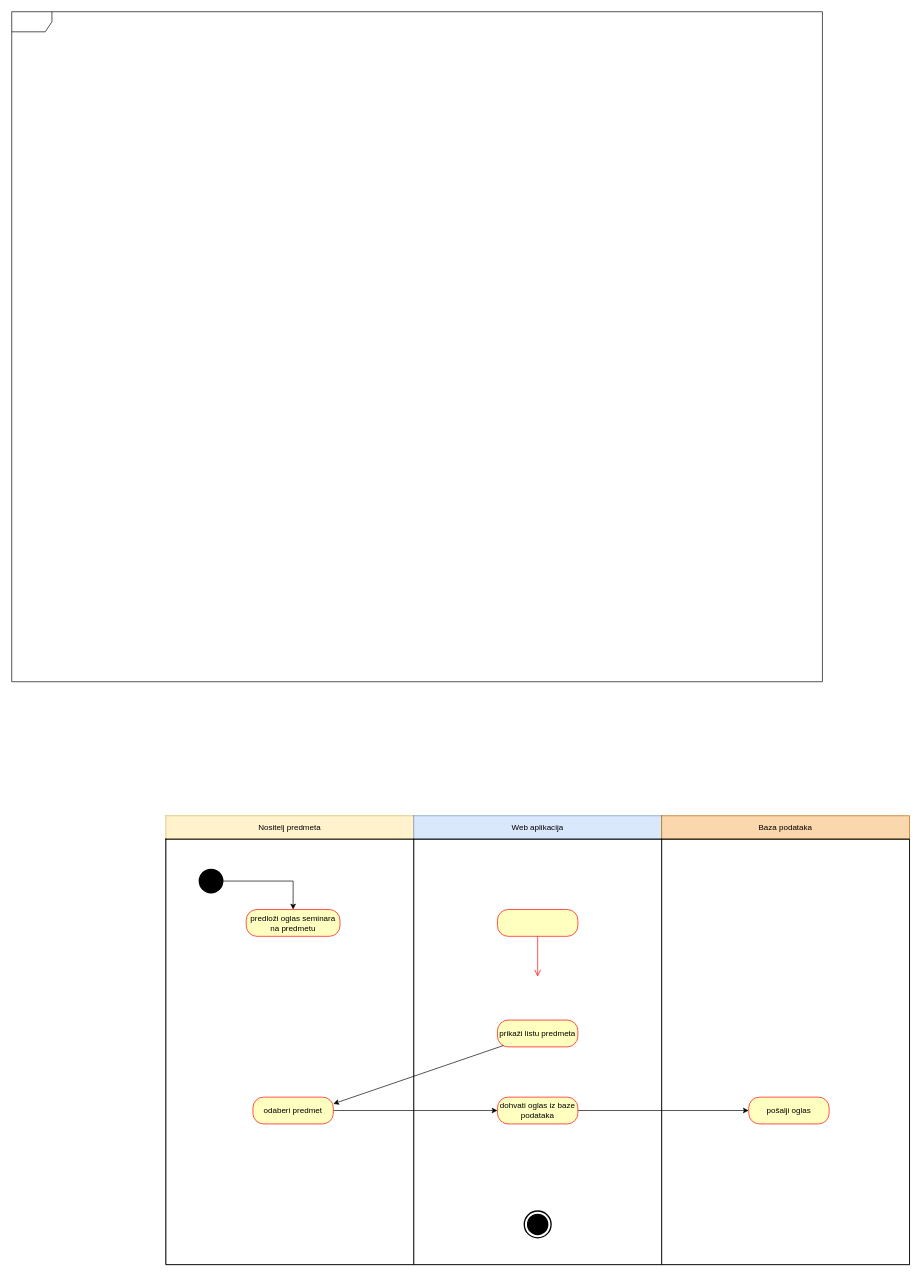
The diagram is 921 pixels wide and 1276 high, and some of its shapes have lost their labels. Each missing label, with the centre of its shape:
"act" belongs at point 416,346.
"Activity" belongs at point 537,922.
